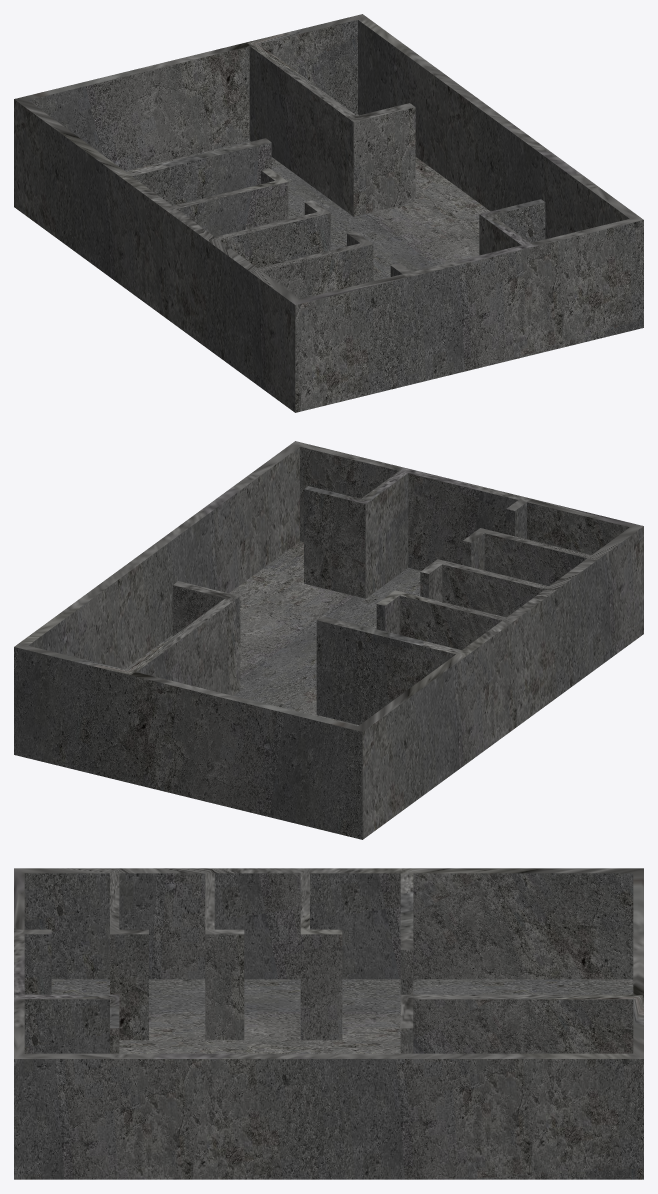
Rendered from Cell Room.fbx.
3 views of the same model, one above another, from view 1: azimuth 30°, elevation 25°; view 2: azimuth 150°, elevation 25°; view 3: azimuth 270°, elevation 25° (orthographic). The views are drawn at different scales.
Parts seen in each view (by area): view 1: pCube2; view 2: pCube2; view 3: pCube2.
Part boxes in pixels (x1,y1,x2,y2): pCube2: [14, 14, 643, 412]; pCube2: [14, 441, 643, 839]; pCube2: [14, 868, 643, 1179].
Size of the model in its own units: 1342 by 397 by 1875.
1 material, 1 textured.
